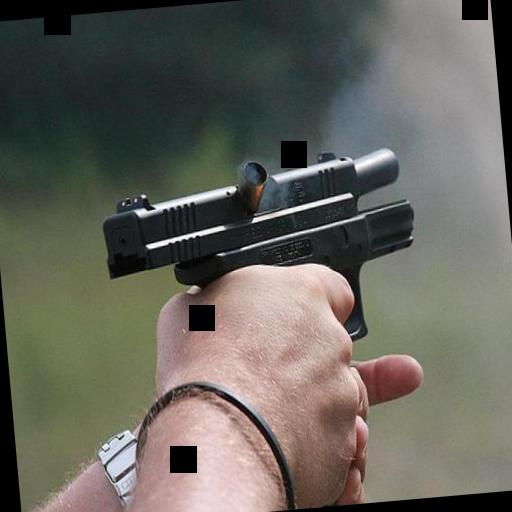Handgun: (90, 142, 426, 368)
